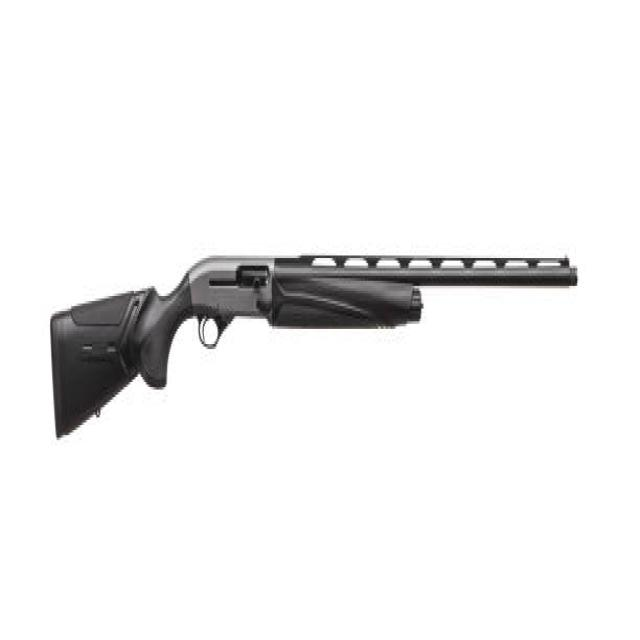rifle: (47, 244, 583, 456)
